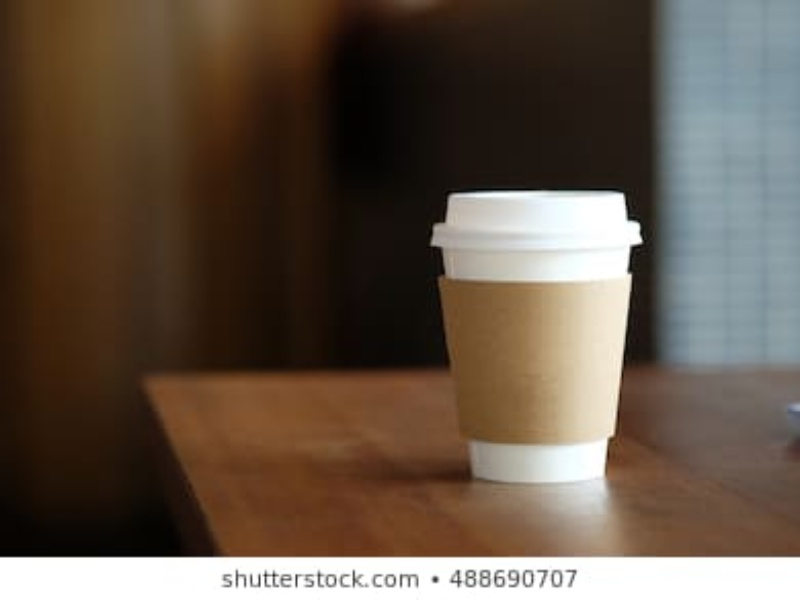coffee-lid: (423, 178, 662, 255)
plastic-cup: (428, 239, 648, 489)
